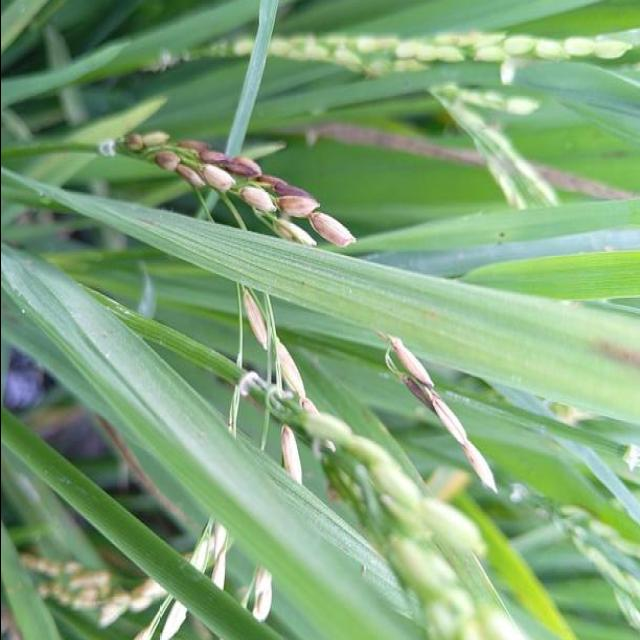Panicle Blight: (306, 209, 355, 248), (232, 185, 275, 214), (273, 191, 318, 218), (403, 376, 433, 412), (196, 164, 234, 192), (174, 164, 209, 191), (192, 143, 232, 166), (250, 171, 287, 191), (166, 139, 208, 156), (226, 156, 260, 177), (270, 184, 312, 199), (152, 150, 179, 173), (120, 132, 145, 153)
